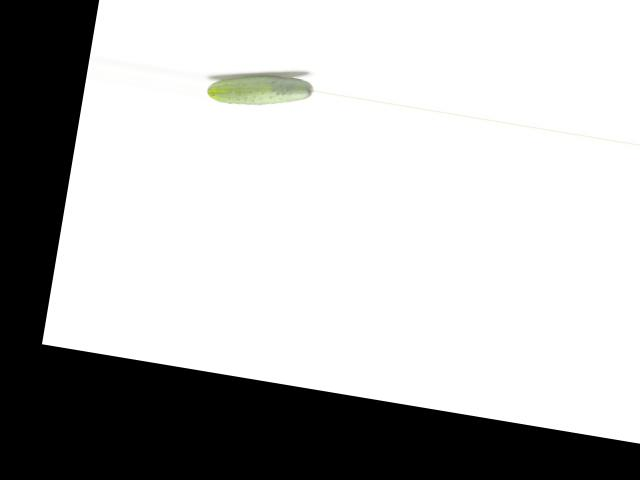cucumber: (206, 63, 316, 117)
